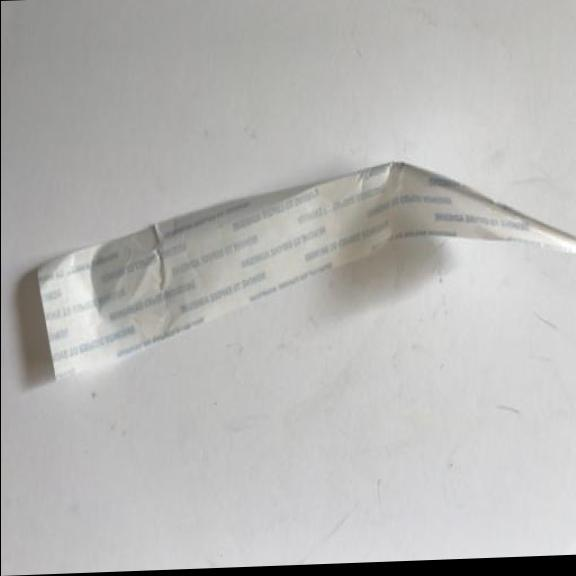Kertas: (29, 160, 576, 381)
